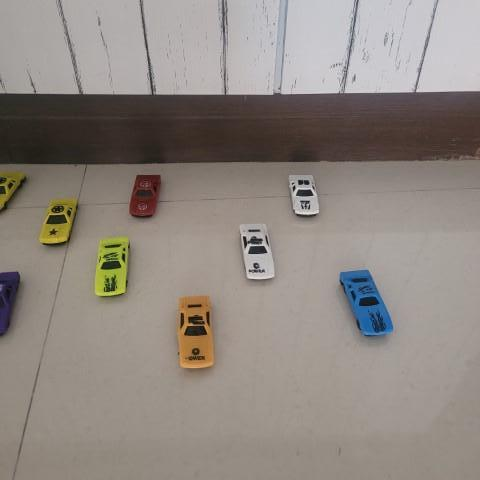car: (338, 264, 395, 337), (176, 293, 220, 372), (238, 222, 280, 283), (93, 238, 132, 300), (38, 195, 78, 247), (287, 171, 323, 219), (127, 171, 162, 220)
